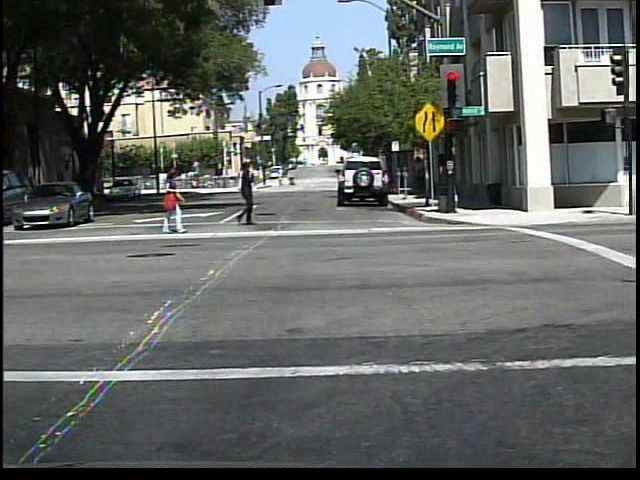person: (153, 160, 192, 236), (225, 159, 265, 231), (276, 171, 284, 191), (287, 171, 295, 189)
